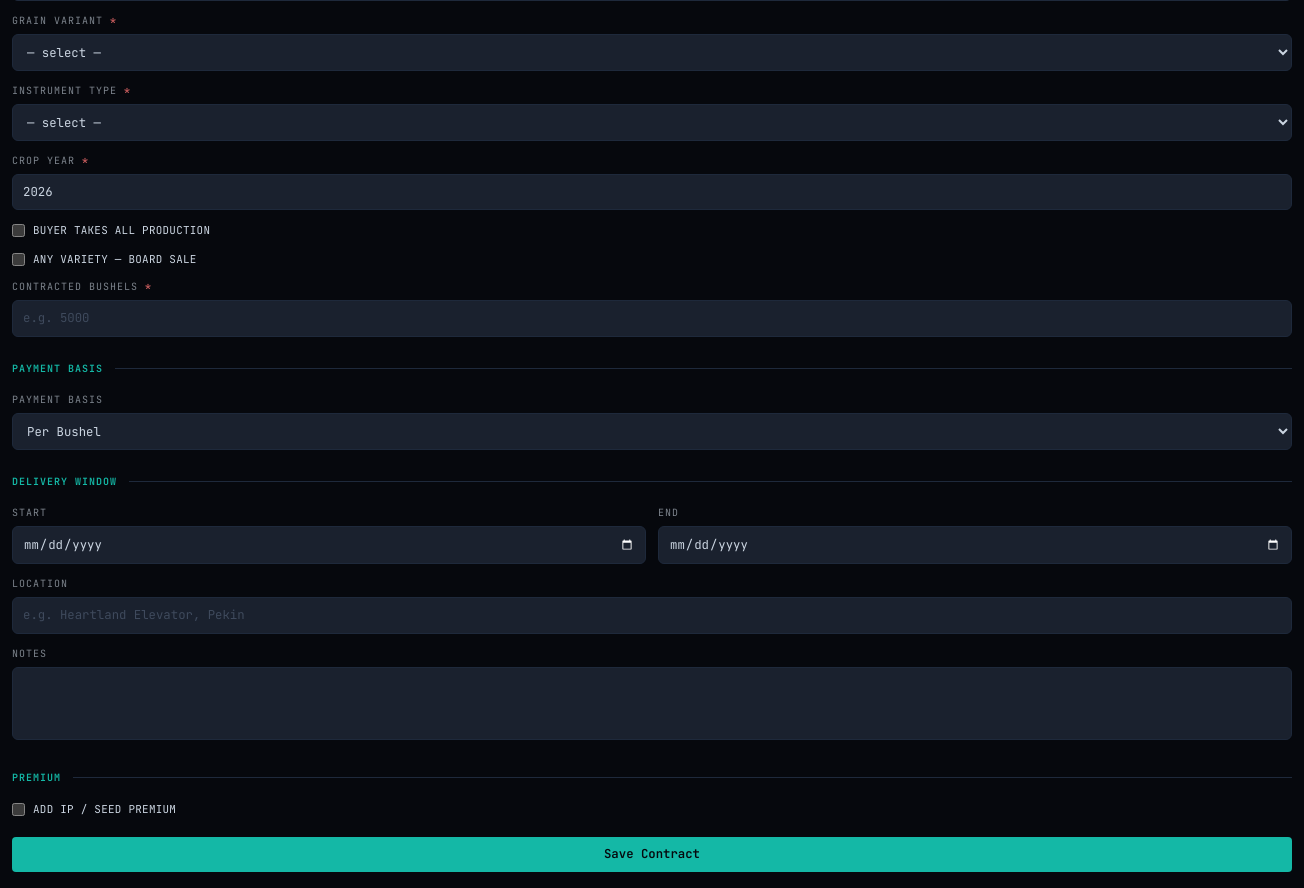
Test case: ContractForm › shows Contract Premium section when Add IP / Seed Premium checkbox is checked
(page scrolled)
Click the checkbox labelled "Add IP / Seed Premium": x=18, y=809 x1=12 y1=803 x2=25 y2=816
(page scrolled)
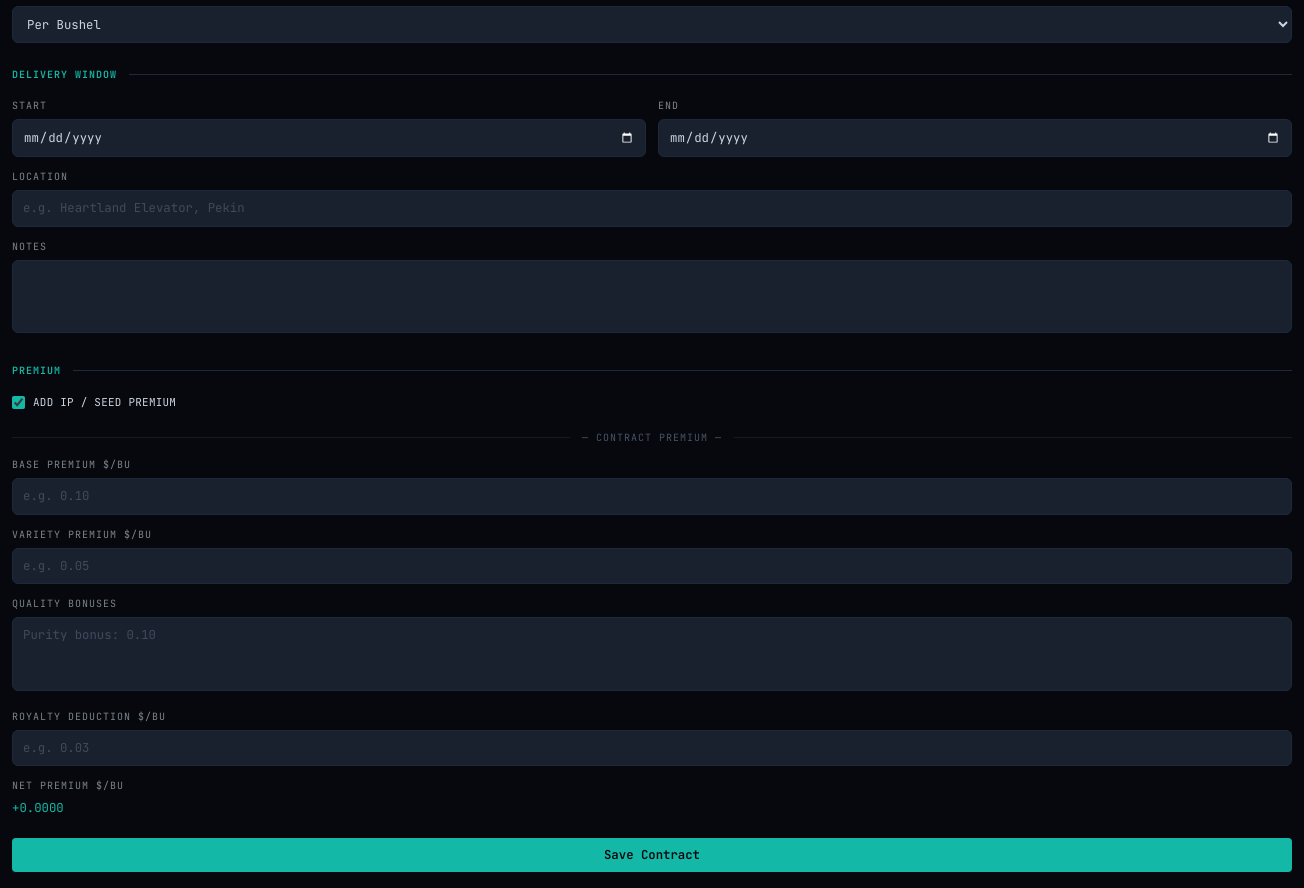
Check: the text "— Contract Premium —" is shown, box x1=578 y1=430 x2=726 y2=445
Check: the number field labelled "Base Premium $/bu" is shown, box x1=12 y1=478 x2=1292 y2=515
